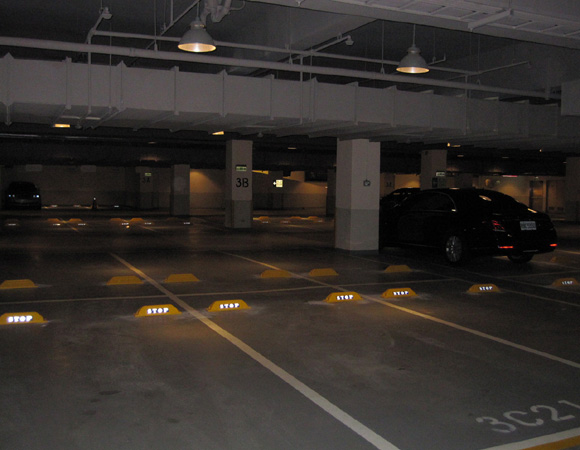car: (380, 184, 560, 270)
